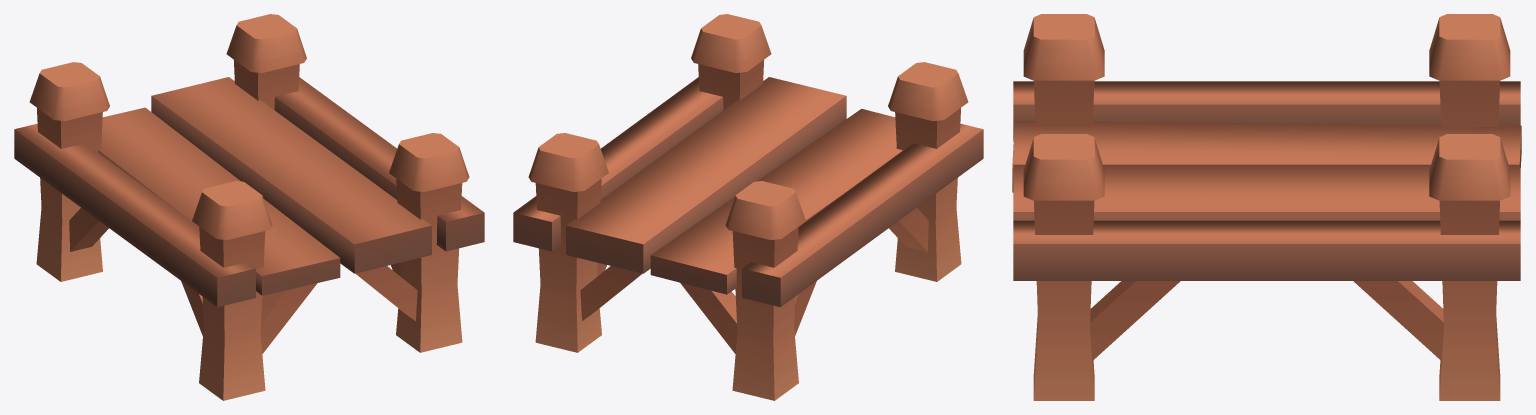
File: structure-platform-dock-small.glb
3 renders of one model, left to right at view 1: azimuth 30°, elevation 25°; view 2: azimuth 150°, elevation 25°; view 3: azimuth 270°, elevation 25°, orthographic. The views are drawn at different scales.
Visible parts, largest first — view 1: structure-platform-dock-small; view 2: structure-platform-dock-small; view 3: structure-platform-dock-small.
Part boxes in pixels (bbox=[...]): structure-platform-dock-small: bbox=[14, 14, 484, 400]; structure-platform-dock-small: bbox=[513, 14, 983, 400]; structure-platform-dock-small: bbox=[1012, 14, 1521, 400].
Size of the model in its own units: 1.9 by 1.31 by 2.51.
Materials: 1 (1 with a texture image).
